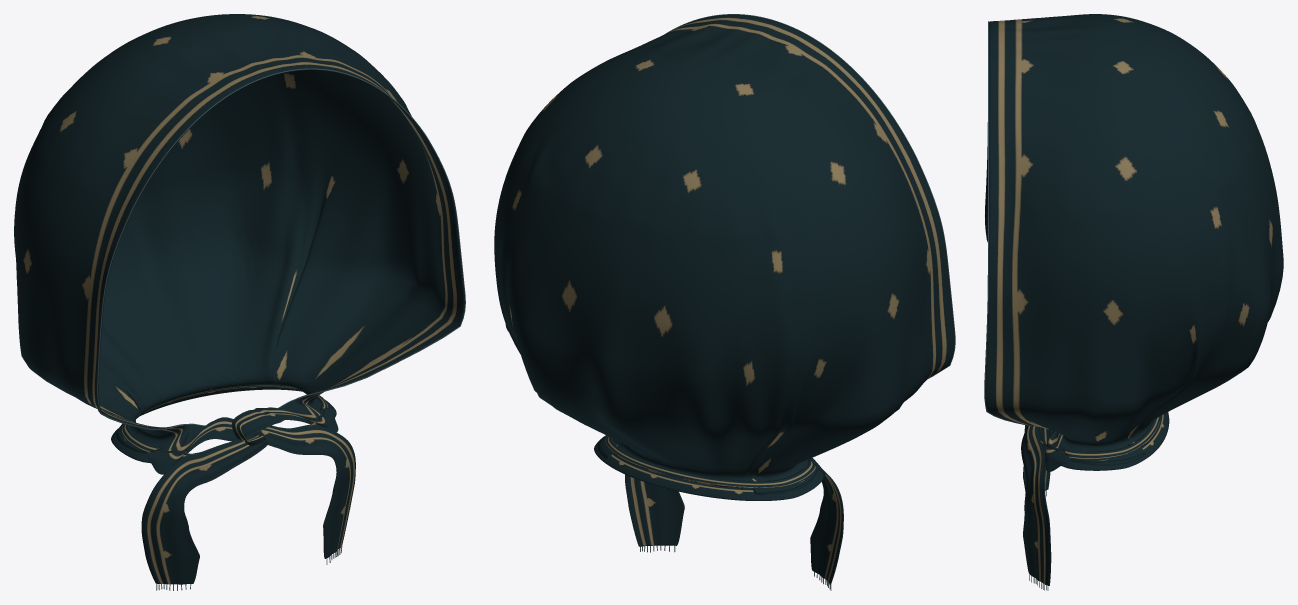
Rendered from Masculine-shirtless-pashmina243-headgear.glb.
The picture shows the model from 3 angles, left to right: view 1: azimuth 30°, elevation 25°; view 2: azimuth 150°, elevation 25°; view 3: azimuth 270°, elevation 25°; orthographic projection. The views are drawn at different scales.
Visible parts, largest first — view 1: 226 headgear / Headwear / continuous woven pashmina239, 226 headgear / Headwear / face edge239; view 2: 226 headgear / Headwear / continuous woven pashmina239, 226 headgear / Headwear / face edge239; view 3: 226 headgear / Headwear / continuous woven pashmina239, 226 headgear / Headwear / face edge239.
Part boxes in pixels (left/top/right/bottom): 226 headgear / Headwear / continuous woven pashmina239: left=14, top=14, right=464, bottom=584; 226 headgear / Headwear / face edge239: left=97, top=68, right=465, bottom=430; 226 headgear / Headwear / continuous woven pashmina239: left=494, top=14, right=954, bottom=584; 226 headgear / Headwear / face edge239: left=666, top=14, right=955, bottom=378; 226 headgear / Headwear / continuous woven pashmina239: left=985, top=14, right=1283, bottom=585; 226 headgear / Headwear / face edge239: left=984, top=21, right=1033, bottom=425.
Size of the model in its own units: 1.03 by 1.35 by 0.7127.
Materials: 3 (1 with a texture image).
